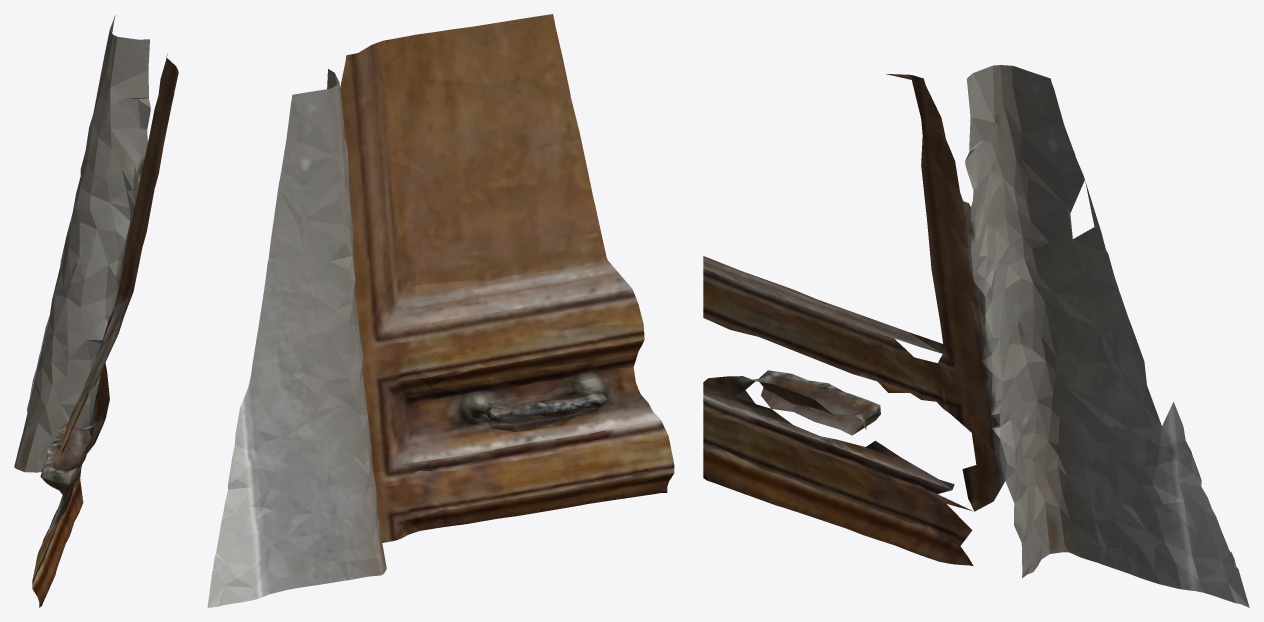
3 renders of one model, left to right at view 1: azimuth 30°, elevation 25°; view 2: azimuth 150°, elevation 25°; view 3: azimuth 270°, elevation 25°, orthographic. The views are drawn at different scales.
Bounding box in the file's own units: 0.455 × 0.8374 × 0.7834.
Materials: 2 (2 with a texture image).
